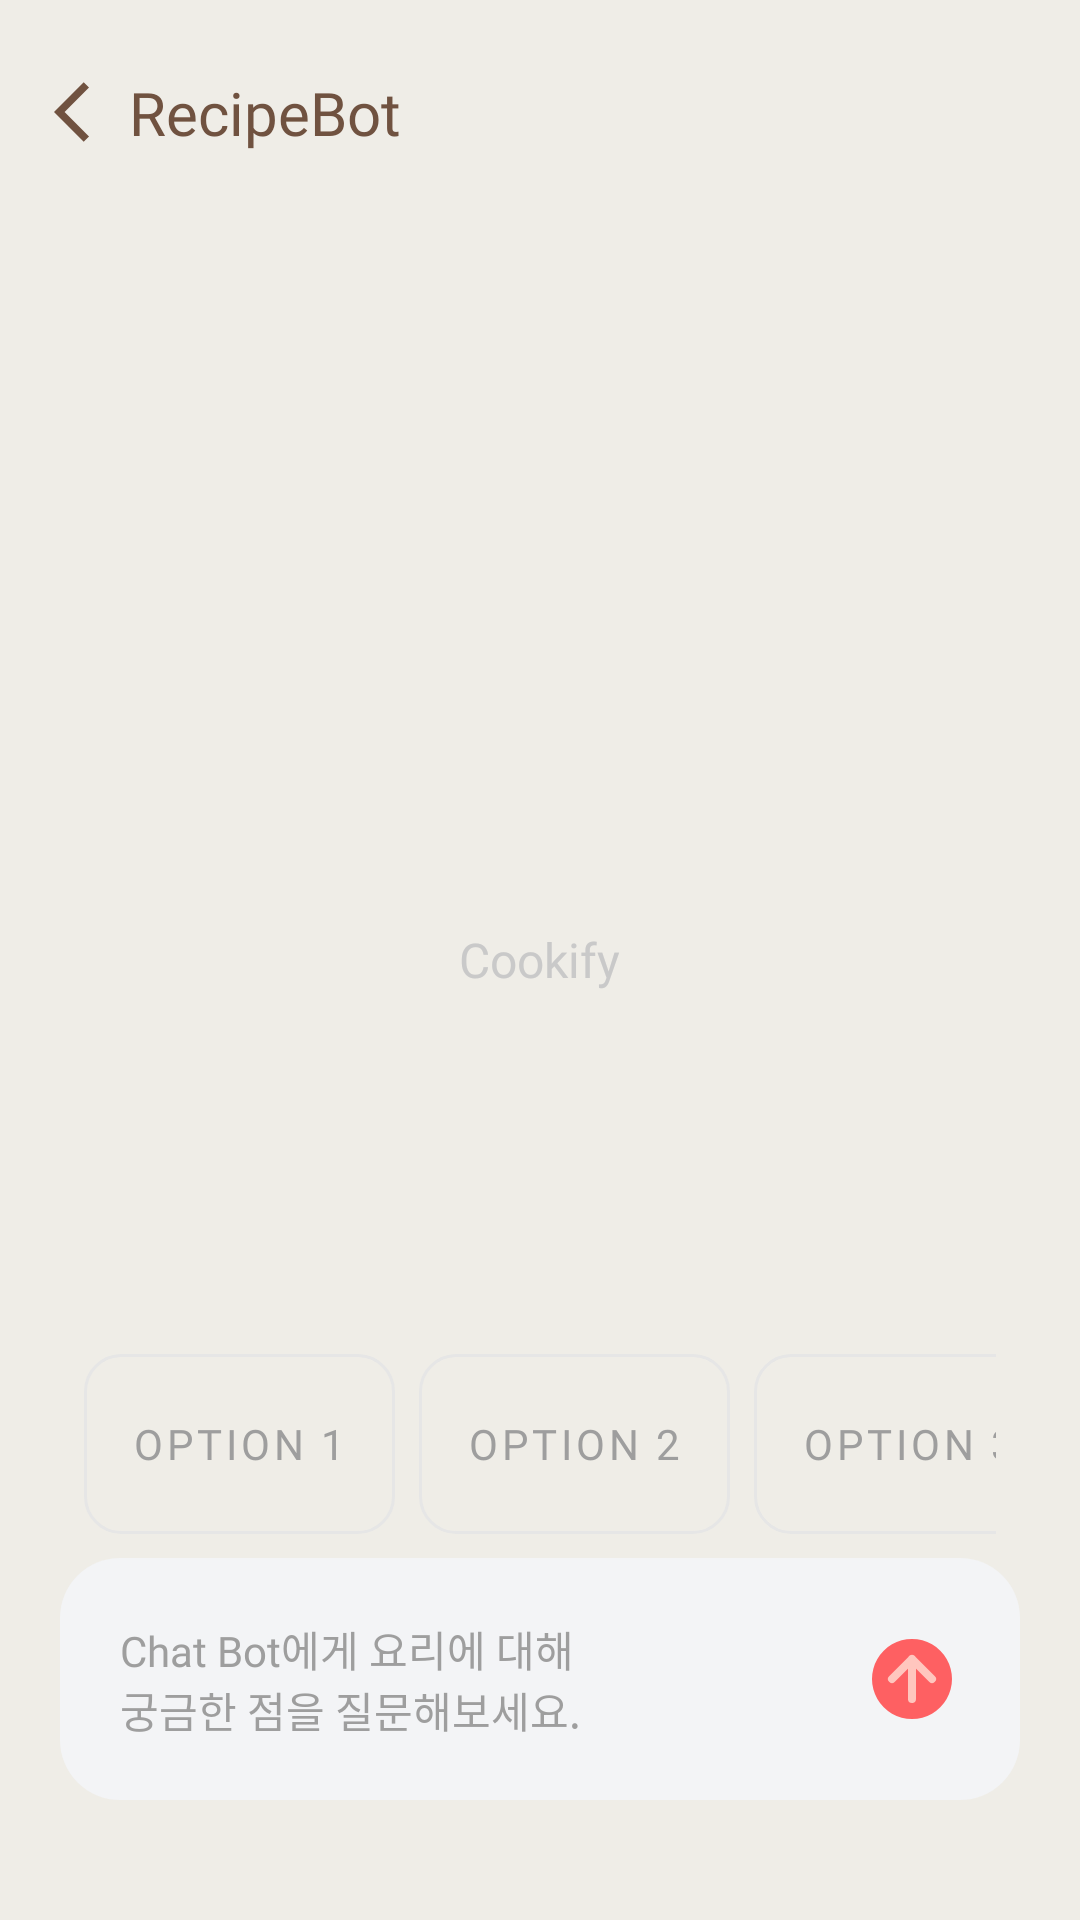

Icons on this 1080×1920 Android screen, each with its box as box(x1, y1, x2, y2):
chevron left: box(54, 82, 89, 142)
